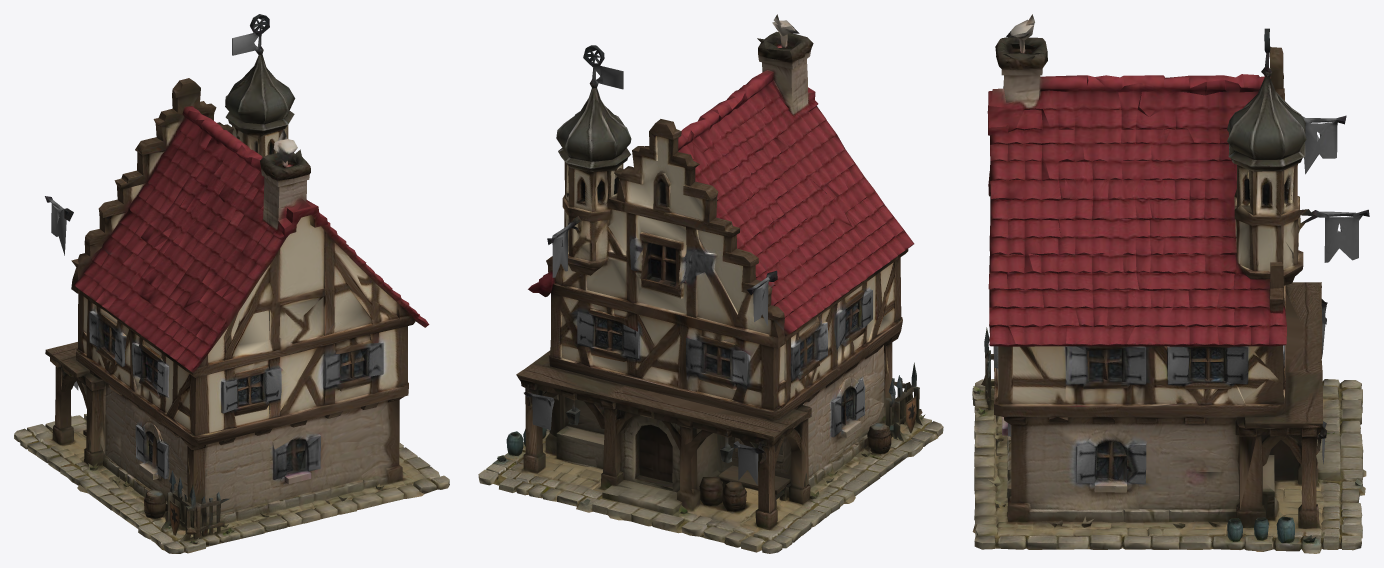
Rendered from kingdom_moot_hall.glb.
3 renders of one model, left to right at view 1: azimuth 30°, elevation 25°; view 2: azimuth 150°, elevation 25°; view 3: azimuth 270°, elevation 25°, orthographic. The views are drawn at different scales.
Parts seen in each view (by area): view 1: kingdom_moot_hall; view 2: kingdom_moot_hall; view 3: kingdom_moot_hall.
Boxes of the visible parts, x1,y1,x2,y2 form: kingdom_moot_hall: [14, 14, 449, 553]; kingdom_moot_hall: [478, 14, 943, 553]; kingdom_moot_hall: [972, 14, 1369, 553].
Bounding box in the file's own units: 8 × 10.62 × 7.96.
2 materials, 2 textured.
